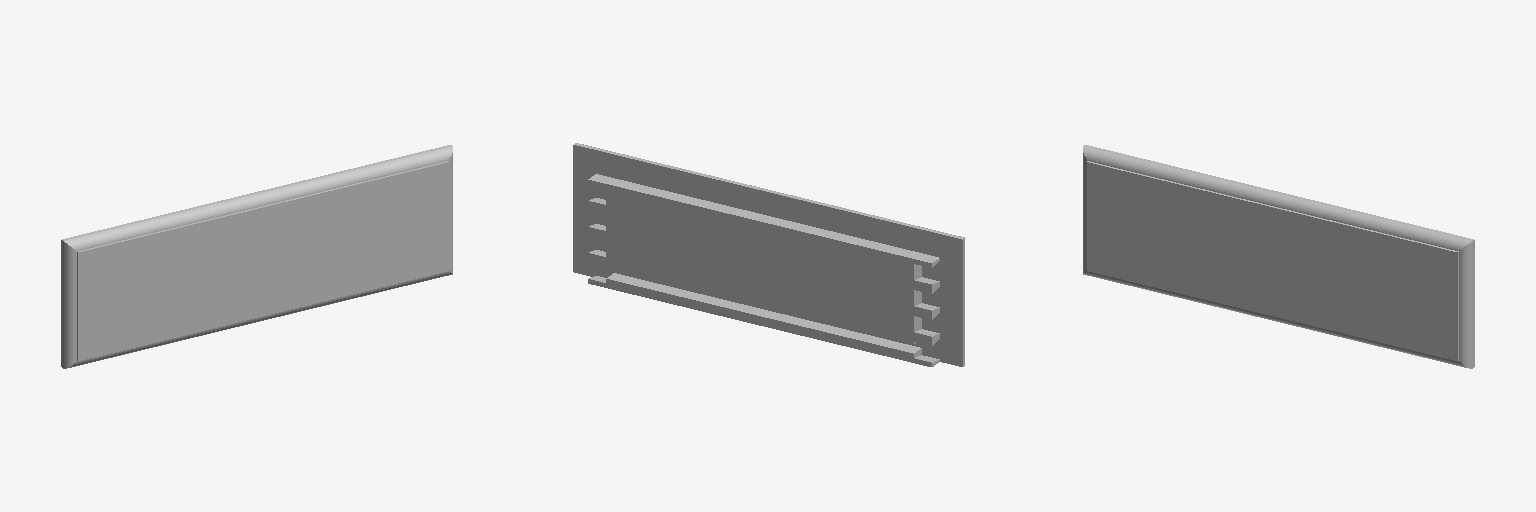
File: original-3.obj
3 views of the same model, side by side, from view 1: azimuth 30°, elevation 25°; view 2: azimuth 150°, elevation 25°; view 3: azimuth 330°, elevation 25° (orthographic).
Parts seen in each view (by area): view 1: drawer_face1/drawer_face/mesh3/mesh3-geometry#mesh3-geometry; view 2: drawer_face1/drawer_face/mesh3/mesh3-geometry#mesh3-geometry; view 3: drawer_face1/drawer_face/mesh3/mesh3-geometry#mesh3-geometry.
Boxes of the visible parts, x1,y1,x2,y2 form: drawer_face1/drawer_face/mesh3/mesh3-geometry#mesh3-geometry: [61, 145, 452, 368]; drawer_face1/drawer_face/mesh3/mesh3-geometry#mesh3-geometry: [573, 143, 964, 366]; drawer_face1/drawer_face/mesh3/mesh3-geometry#mesh3-geometry: [1083, 145, 1474, 368].
Size of the model in its own units: 0.4099 by 0.1287 by 0.0286.